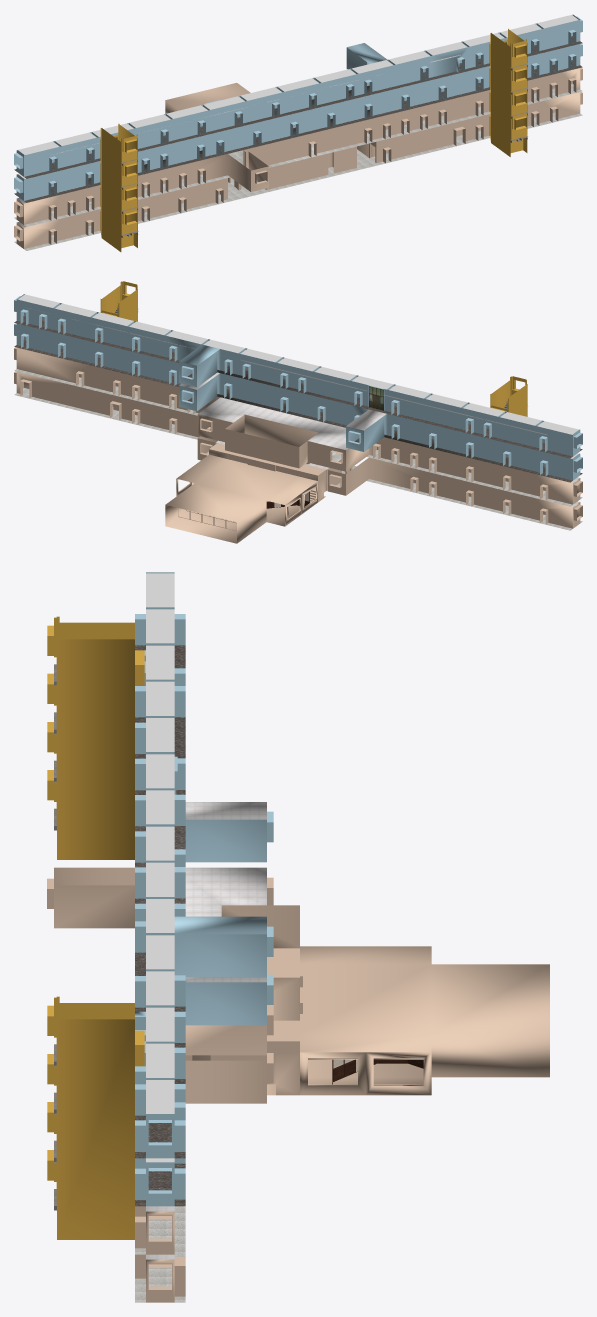
3 views of the same model, one above another, from view 1: azimuth 30°, elevation 25°; view 2: azimuth 150°, elevation 25°; view 3: azimuth 270°, elevation 25° (orthographic). The views are drawn at different scales.
Visible parts, largest first — view 1: 4et.001; view 2: 4et.001; view 3: 4et.001.
Boxes of the visible parts, bbox=[...] form: 4et.001: bbox=[14, 14, 582, 251]; 4et.001: bbox=[14, 281, 582, 543]; 4et.001: bbox=[47, 572, 549, 1302].
Bounding box in the file's own units: 90.54 × 17.51 × 35.01.
12 materials, 7 textured.
